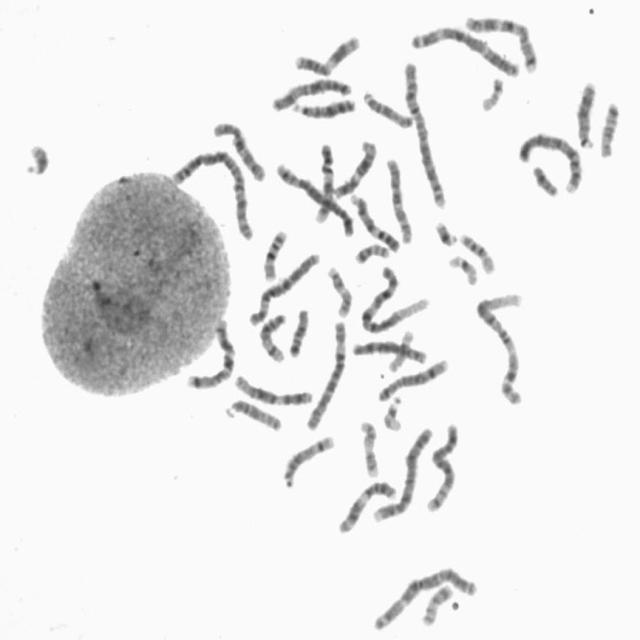A1: (471, 288, 526, 407), (357, 261, 432, 335)
A2: (167, 144, 258, 242), (400, 55, 450, 210)
A3: (369, 560, 480, 632), (406, 19, 524, 78)
B4: (370, 420, 436, 524), (514, 126, 586, 195)
B5: (273, 156, 357, 238), (422, 417, 462, 514)
C10: (208, 115, 269, 183), (382, 152, 416, 245)
C11: (335, 475, 399, 536), (290, 29, 364, 77)
C12: (230, 368, 316, 407), (329, 134, 380, 199)
C6: (244, 247, 323, 328), (302, 315, 349, 432)
C7: (461, 9, 542, 74), (182, 313, 238, 391)
C8: (373, 353, 452, 403), (349, 334, 429, 366)
C9: (346, 188, 403, 254), (310, 138, 337, 225)
D13: (288, 92, 358, 120), (573, 76, 599, 149)
D14: (279, 429, 337, 490), (255, 307, 289, 364)
D15: (358, 85, 416, 130), (224, 393, 284, 434)
E16: (456, 227, 498, 275), (260, 224, 290, 282)
E17: (324, 260, 354, 319), (356, 414, 382, 480)
E18: (596, 96, 622, 158), (284, 303, 312, 358)
F19: (385, 325, 417, 374), (444, 250, 480, 286)
F20: (418, 580, 455, 628), (350, 238, 392, 265)
G21: (20, 137, 52, 178), (431, 215, 460, 248)
G22: (478, 71, 507, 113), (379, 391, 406, 433)
X: (268, 73, 354, 113)
